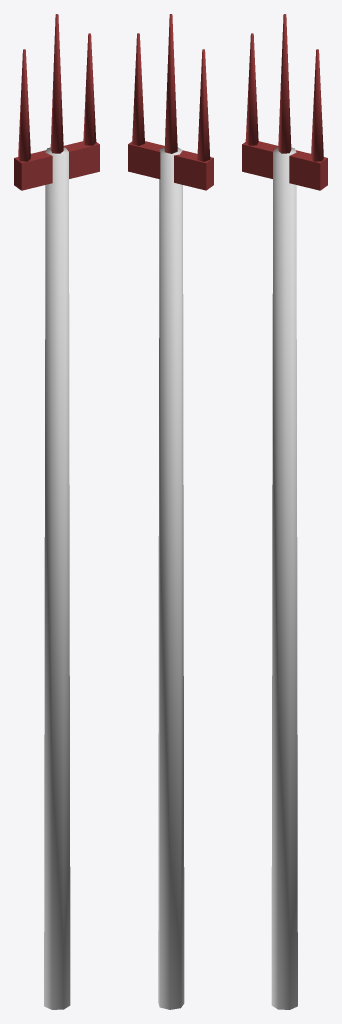
Rendered from the_rotted_fork.glb.
The picture shows the model from 3 angles, left to right: view 1: azimuth 30°, elevation 25°; view 2: azimuth 150°, elevation 25°; view 3: azimuth 330°, elevation 25°; orthographic projection.
Parts seen in each view (by area): view 1: the_rotted_fork_v0; view 2: the_rotted_fork_v0; view 3: the_rotted_fork_v0.
Boxes of the visible parts, x1,y1,x2,y2 form: the_rotted_fork_v0: (14,14,99,1009); the_rotted_fork_v0: (128,14,213,1009); the_rotted_fork_v0: (242,14,327,1009).
Size of the model in its own units: 0.12 by 1.45 by 0.0342.
